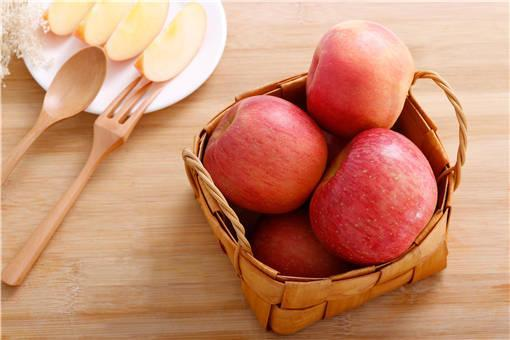apple: (309, 125, 436, 264), (197, 96, 325, 216), (305, 18, 414, 136)
